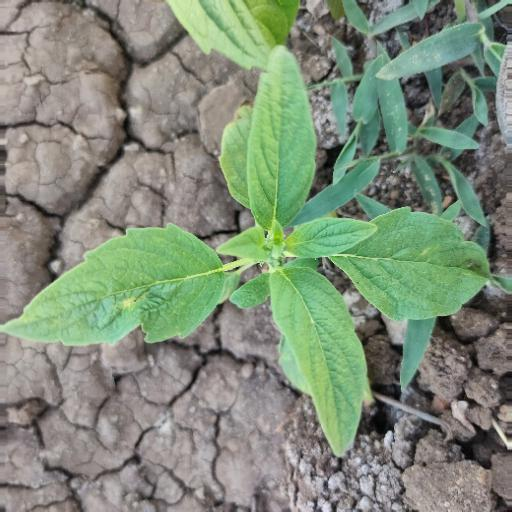crop: (6, 47, 491, 464)
